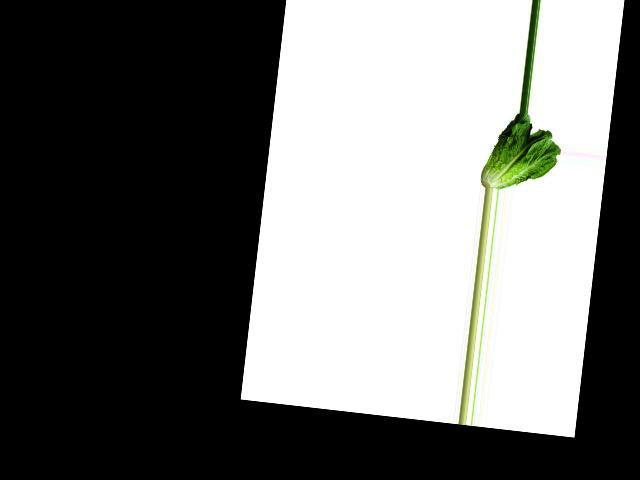lettuce: (479, 111, 565, 194)
